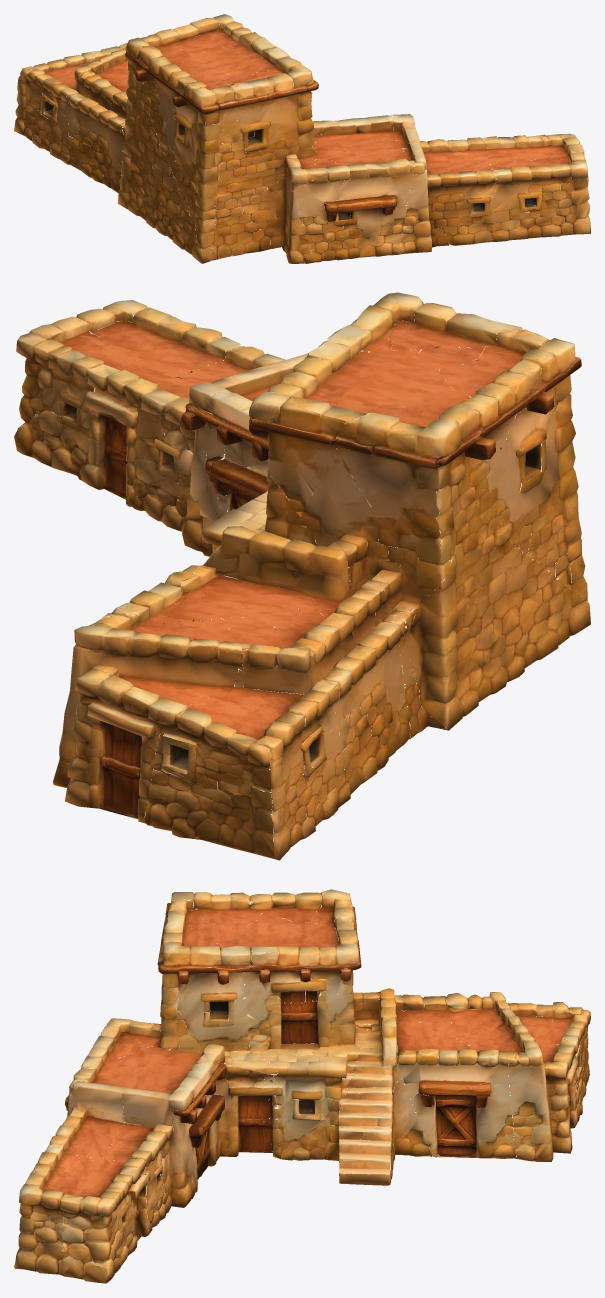
Rendered from insula.glb.
The picture shows the model from 3 angles, top to bottom: view 1: azimuth 30°, elevation 25°; view 2: azimuth 150°, elevation 25°; view 3: azimuth 270°, elevation 25°; orthographic projection. The views are drawn at different scales.
Parts seen in each view (by area): view 1: Insula; view 2: Insula; view 3: Insula.
Boxes of the visible parts, x1,y1,x2,y2 form: Insula: [14, 14, 590, 263]; Insula: [14, 292, 590, 860]; Insula: [14, 889, 590, 1283].
Size of the model in its own units: 10.83 by 4.91 by 13.
1 material, 1 textured.
